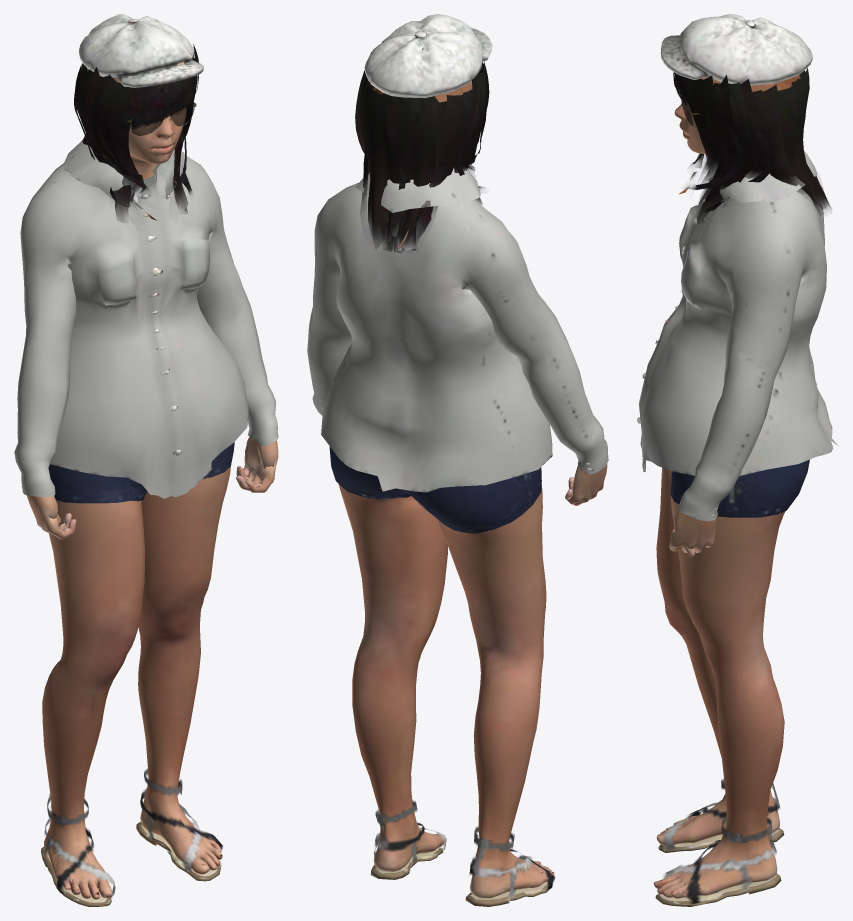
3 renders of one model, left to right at view 1: azimuth 30°, elevation 25°; view 2: azimuth 150°, elevation 25°; view 3: azimuth 270°, elevation 25°, orthographic. The views are drawn at different scales.
Visible parts, largest first — view 1: p00439; view 2: p00439; view 3: p00439.
Part boxes in pixels (box(x1,y1,x2,y2)): p00439: box(14, 14, 278, 906); p00439: box(307, 14, 608, 906); p00439: box(637, 14, 838, 906).
Size of the model in its own units: 0.519 by 1.57 by 0.3307.
Materials: 1 (1 with a texture image).
